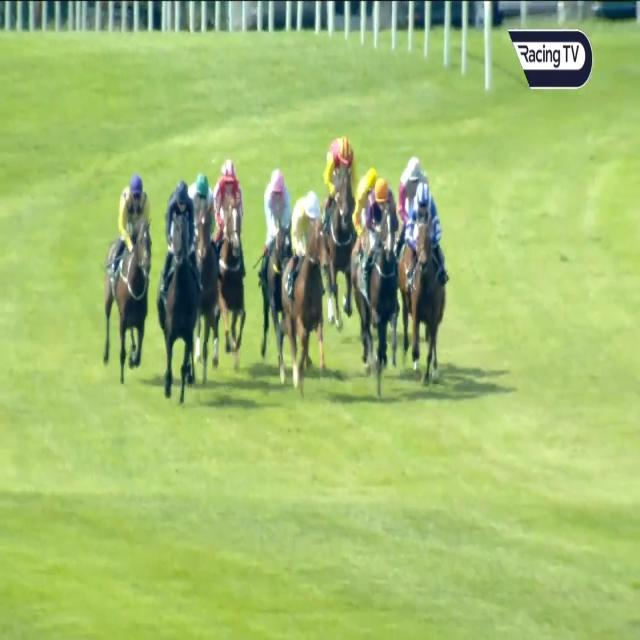horses-racing: (101, 173, 149, 386), (356, 179, 399, 390), (162, 177, 202, 399), (404, 191, 447, 381), (285, 188, 323, 400), (213, 152, 250, 358), (255, 167, 293, 348), (320, 132, 354, 320), (192, 172, 222, 364), (353, 161, 383, 252), (397, 153, 433, 225)
